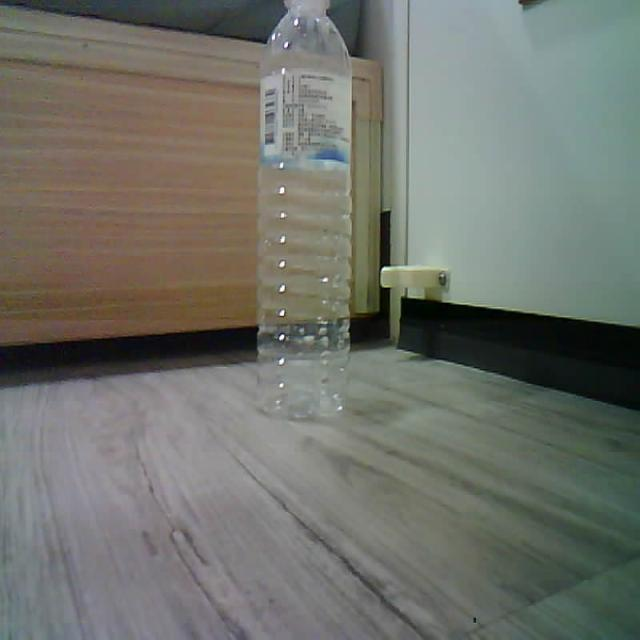bottle: (257, 0, 351, 416)
